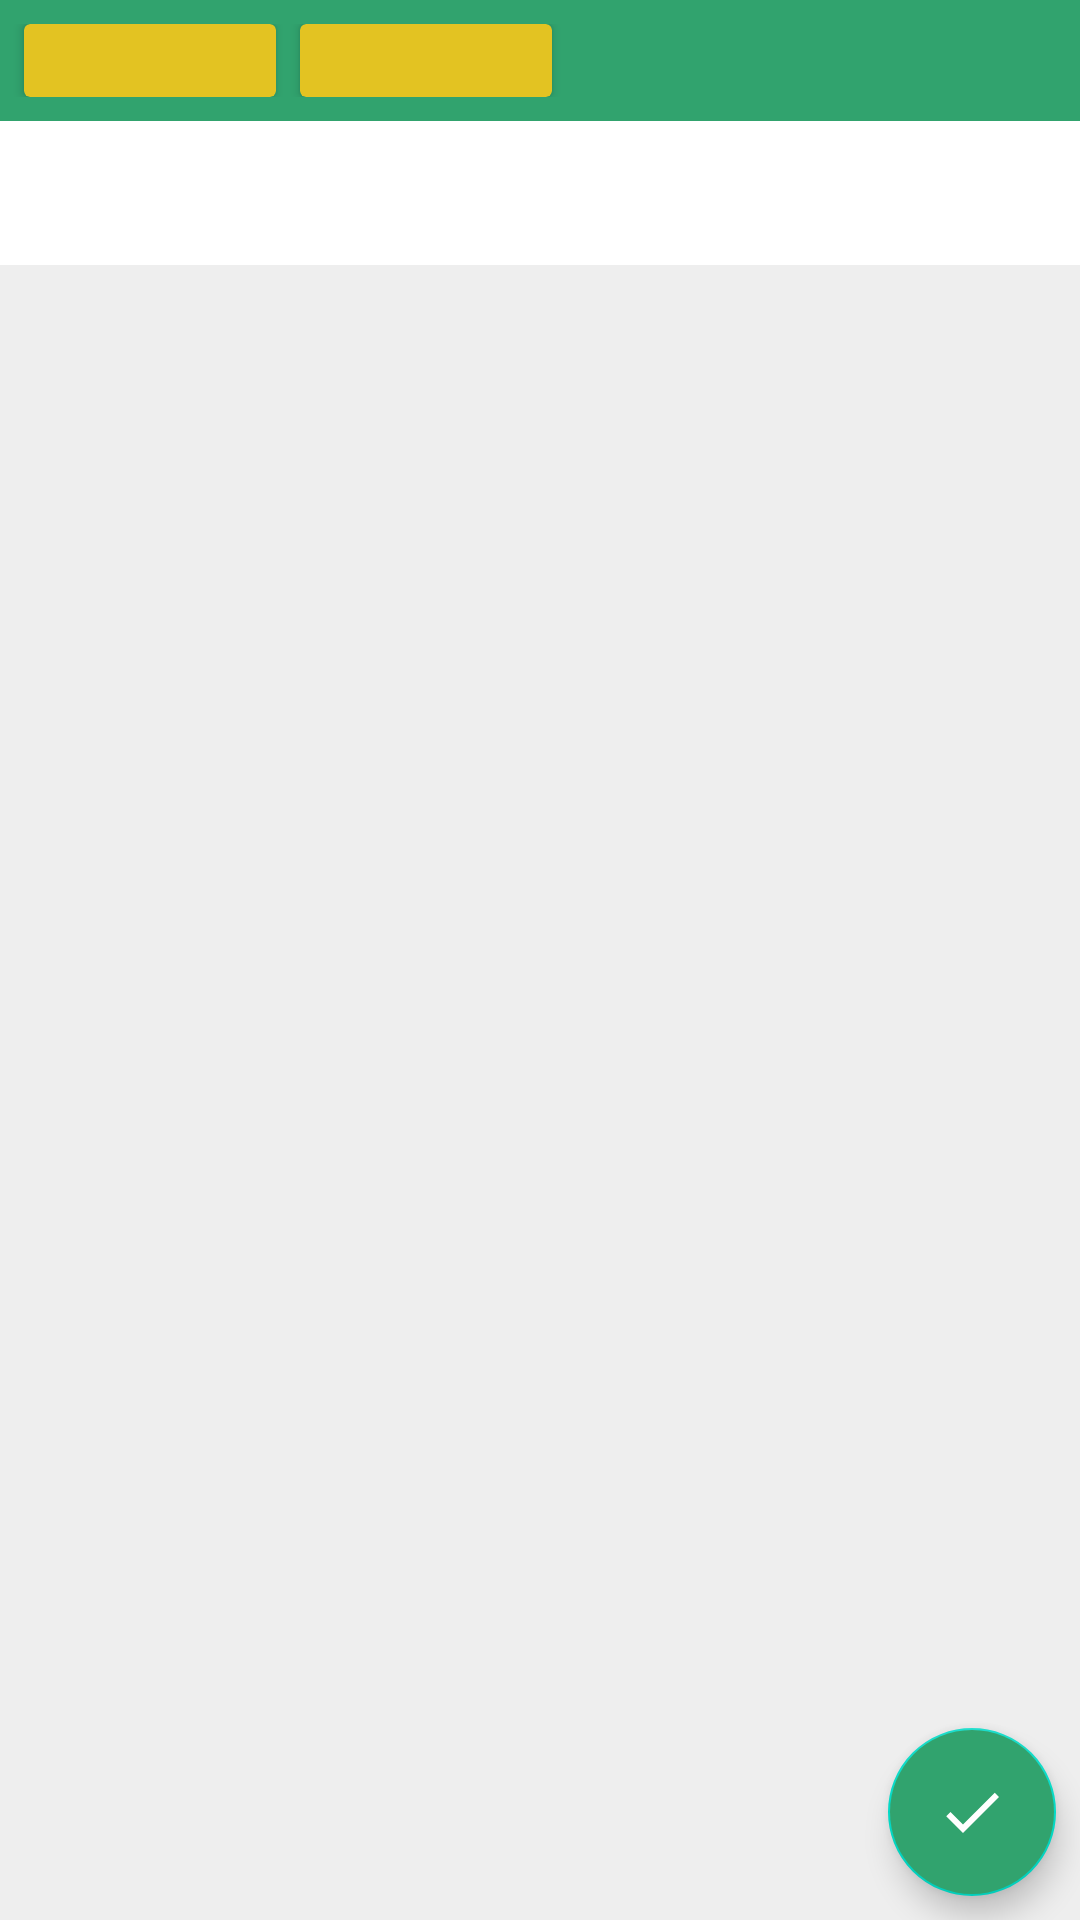

Where icons sit on this 1080 x 1920 app screen, as rect(x1, y1, x2, y2):
finish: rect(888, 1728, 1056, 1896)
